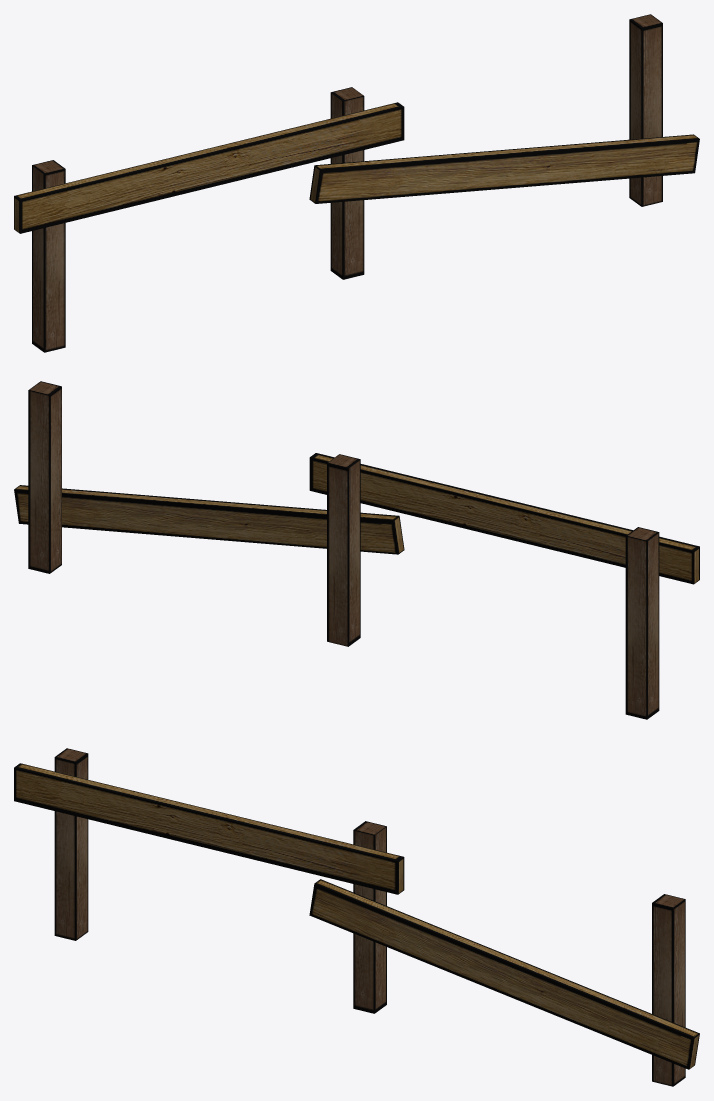
The model's file is WoodFences_01.FBX.
3 renders of one model, top to bottom at view 1: azimuth 30°, elevation 25°; view 2: azimuth 150°, elevation 25°; view 3: azimuth 330°, elevation 25°, orthographic.
Visible parts, largest first — view 1: Box004; view 2: Box004; view 3: Box004.
Boxes of the visible parts, x1=… form: Box004: x1=14, y1=14, x2=699, y2=352; Box004: x1=14, y1=381, x2=699, y2=719; Box004: x1=14, y1=748, x2=699, y2=1086.
Size of the model in its own units: 159 by 40 by 8.31.
